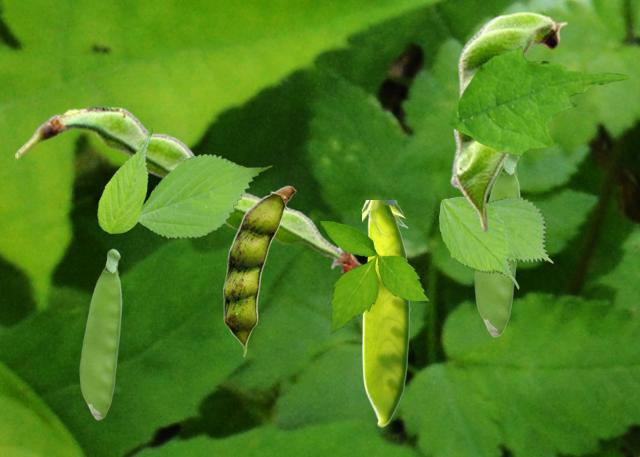pea: (15, 106, 364, 271), (449, 11, 567, 232), (223, 185, 295, 356), (362, 200, 409, 426), (474, 155, 520, 336), (79, 248, 121, 419)
